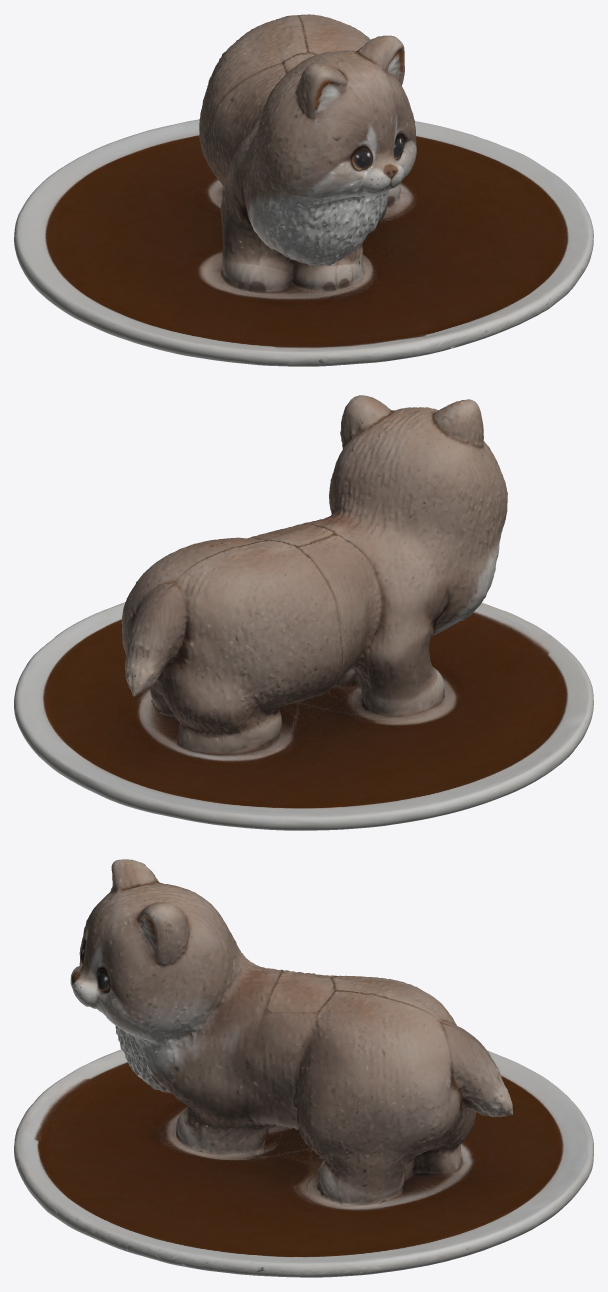
Rendered from cat4.glb.
The picture shows the model from 3 angles, top to bottom: view 1: azimuth 30°, elevation 25°; view 2: azimuth 150°, elevation 25°; view 3: azimuth 270°, elevation 25°; orthographic projection.
Size of the model in its own units: 2 by 1.03 by 2.
Materials: 1 (1 with a texture image).
